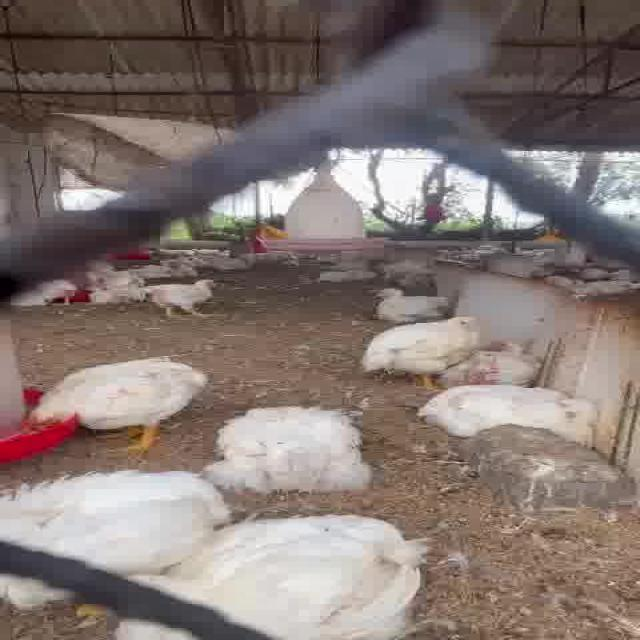AbNormal: (128, 505, 418, 640), (0, 463, 240, 598), (212, 402, 372, 497), (420, 386, 608, 443), (418, 338, 571, 391), (356, 276, 482, 320)
Normal: (25, 350, 204, 460), (346, 311, 489, 386), (144, 268, 236, 320)
